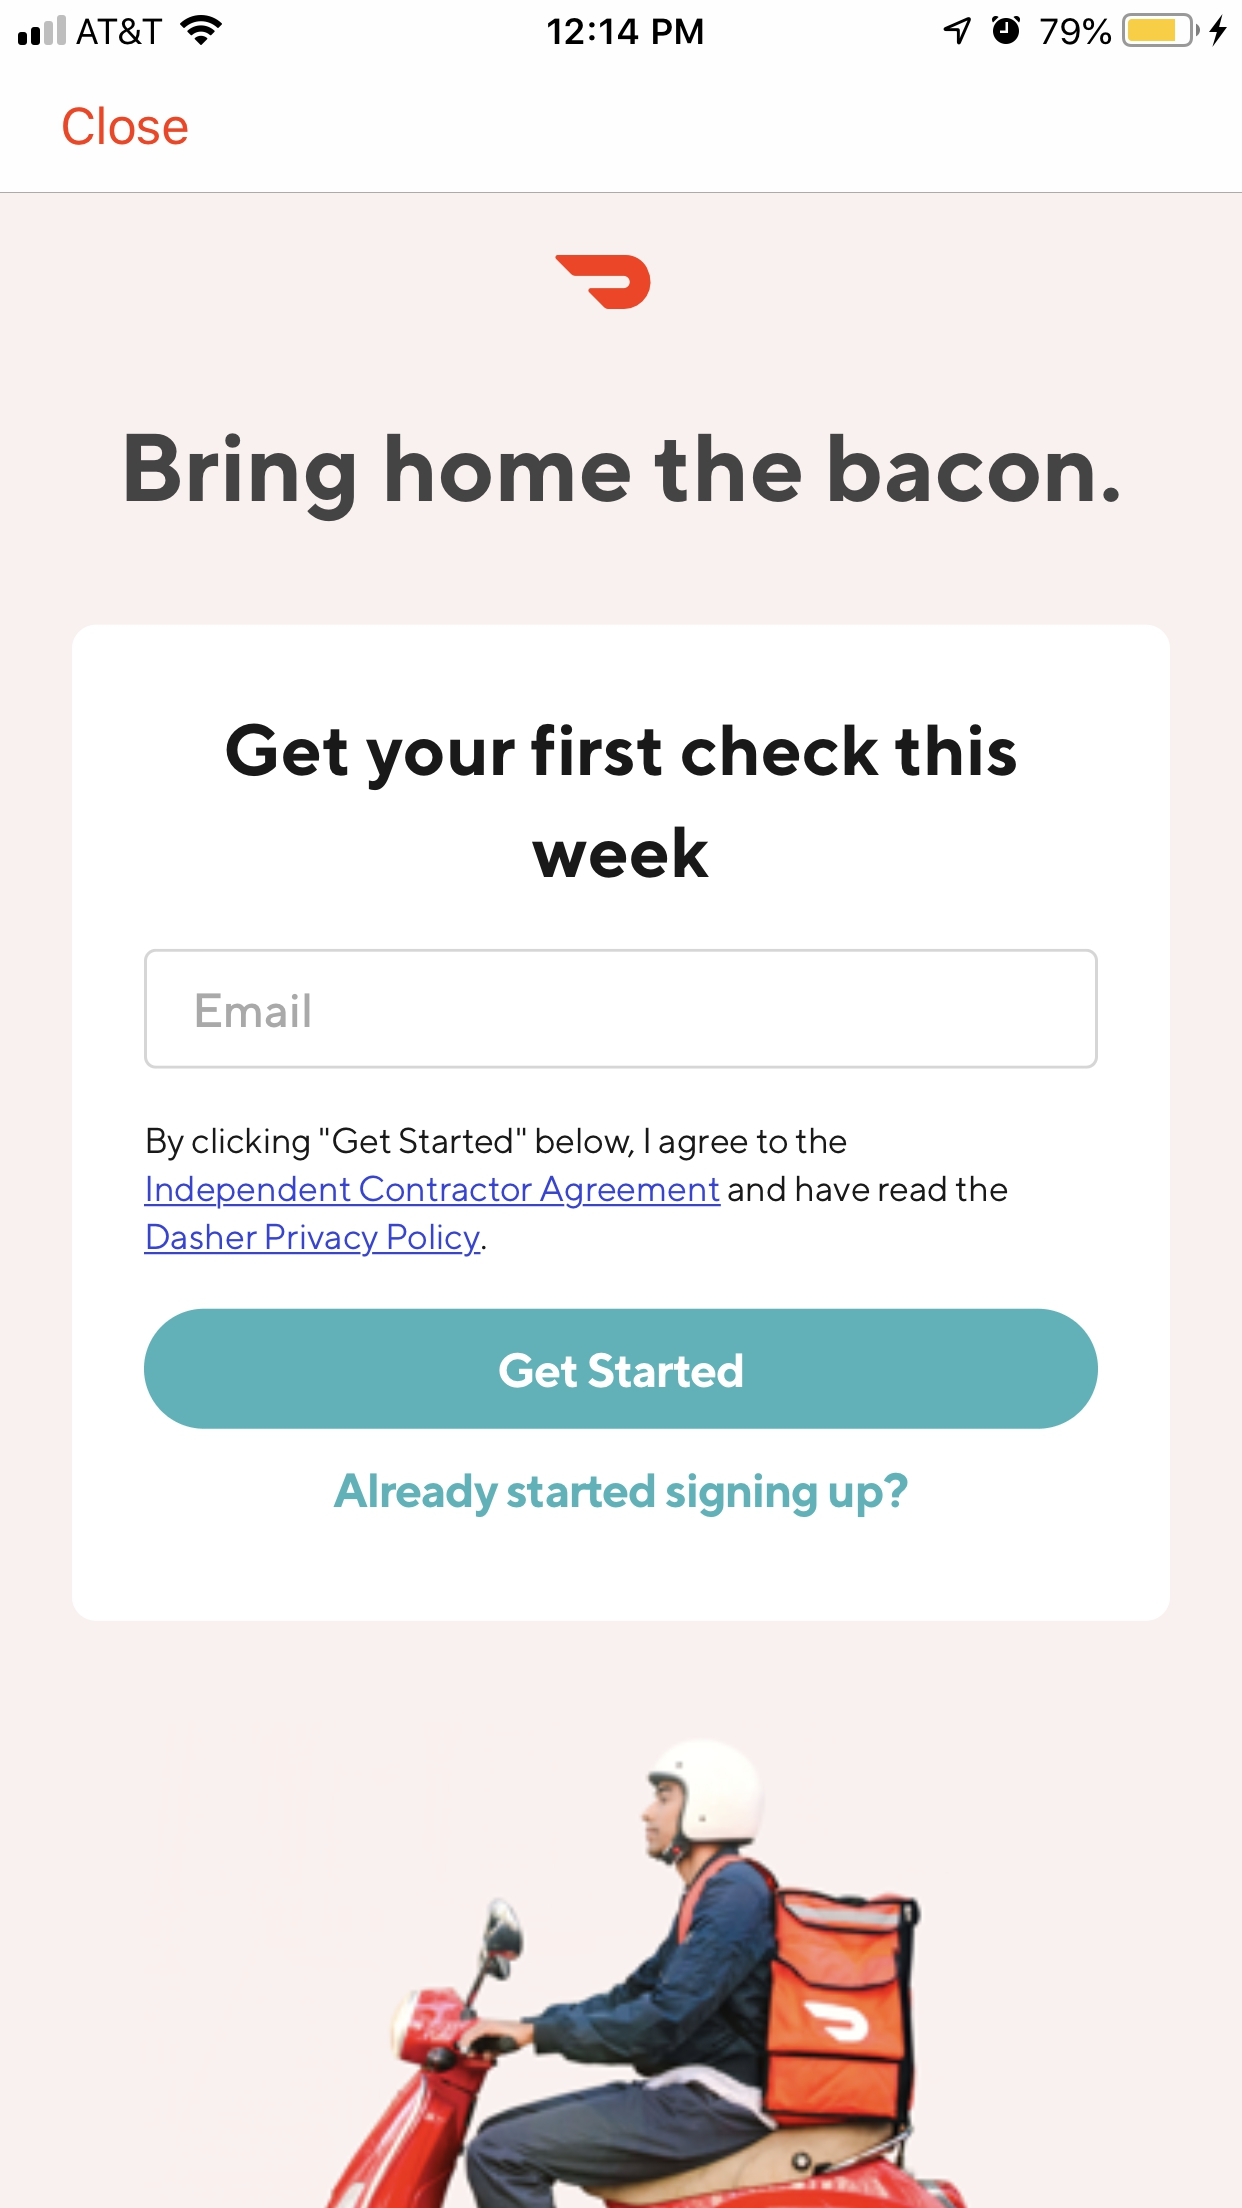EditText: (146, 949, 1099, 1071)
Image: (328, 1738, 968, 2208), (555, 255, 652, 311)
Text: (226, 723, 1018, 880), (144, 1127, 1008, 1259), (126, 432, 1119, 523), (334, 1473, 908, 1518), (64, 106, 190, 147), (196, 993, 311, 1030)
TextButton: (144, 1309, 1099, 1430)
UpperTaskBar: (2, 2, 1242, 49)
